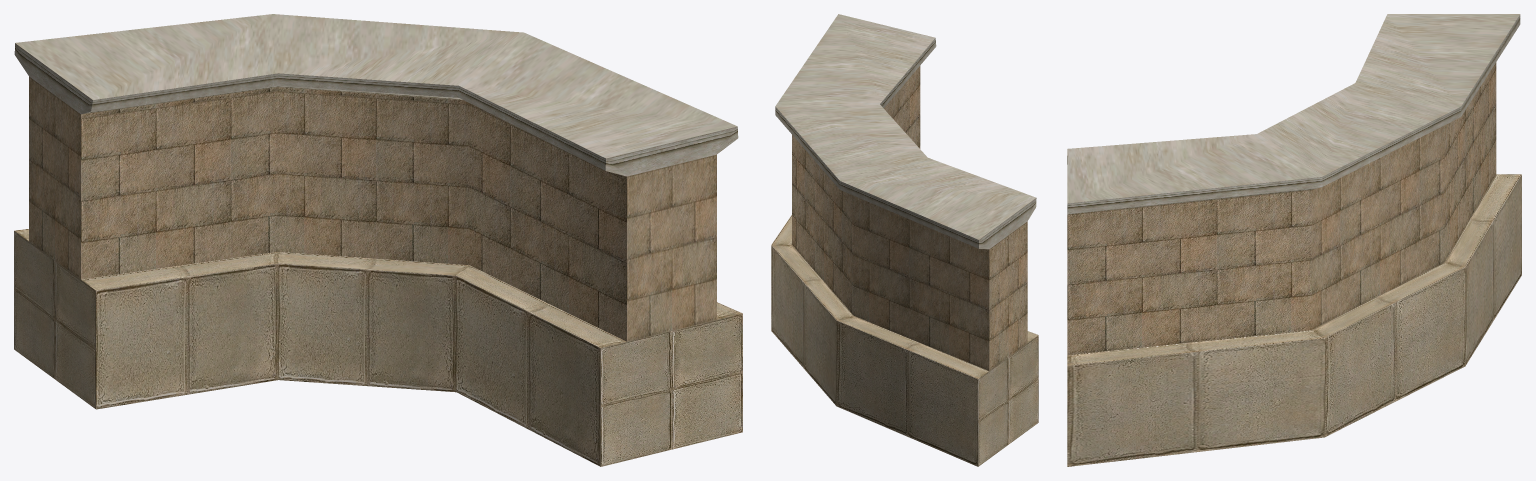
The model's file is thm_nboo_imprv_tall_curved_wall_small_s01_l1.fbx.
3 views of the same model, side by side, from view 1: azimuth 30°, elevation 25°; view 2: azimuth 150°, elevation 25°; view 3: azimuth 270°, elevation 25° (orthographic). The views are drawn at different scales.
Parts seen in each view (by area): view 1: mesh_node; view 2: mesh_node; view 3: mesh_node.
Boxes of the visible parts, bbox=[...] form: mesh_node: bbox=[14, 14, 742, 466]; mesh_node: bbox=[771, 14, 1038, 466]; mesh_node: bbox=[1067, 14, 1521, 466].
Size of the model in its own units: 4.73 by 3 by 4.73.
